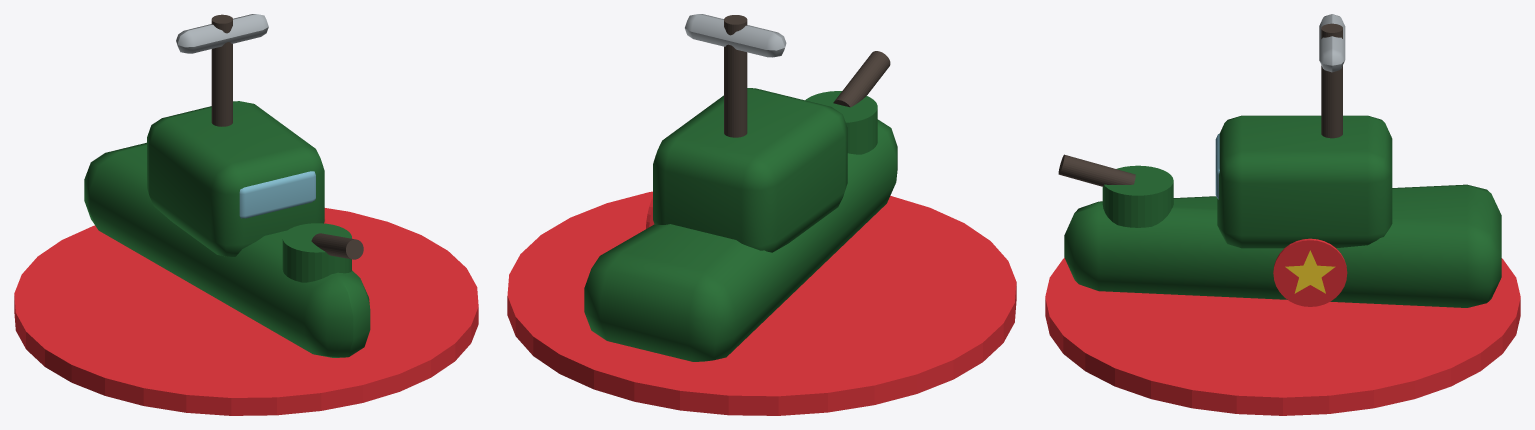
Rendered from vietnam_navy_lod0.glb.
3 views of the same model, side by side, from view 1: azimuth 30°, elevation 25°; view 2: azimuth 150°, elevation 25°; view 3: azimuth 270°, elevation 25° (orthographic). The views are drawn at different scales.
Parts seen in each view (by area): view 1: base_pedestal, body_hull; view 2: base_pedestal, body_hull; view 3: body_hull, base_pedestal.
Part boxes in pixels (x1,y1,x2,y2): base_pedestal: [14, 208, 478, 415]; body_hull: [84, 14, 370, 357]; base_pedestal: [507, 191, 1016, 415]; body_hull: [584, 14, 897, 361]; body_hull: [1058, 14, 1501, 307]; base_pedestal: [1045, 258, 1520, 415].
Size of the model in its own units: 0.78 by 0.5196 by 0.78.
